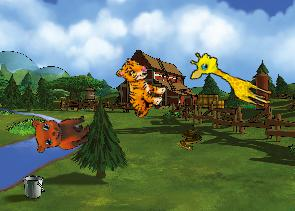bear: (26, 101, 95, 160)
giraffe: (184, 48, 279, 110)
tiger: (103, 54, 173, 122)
